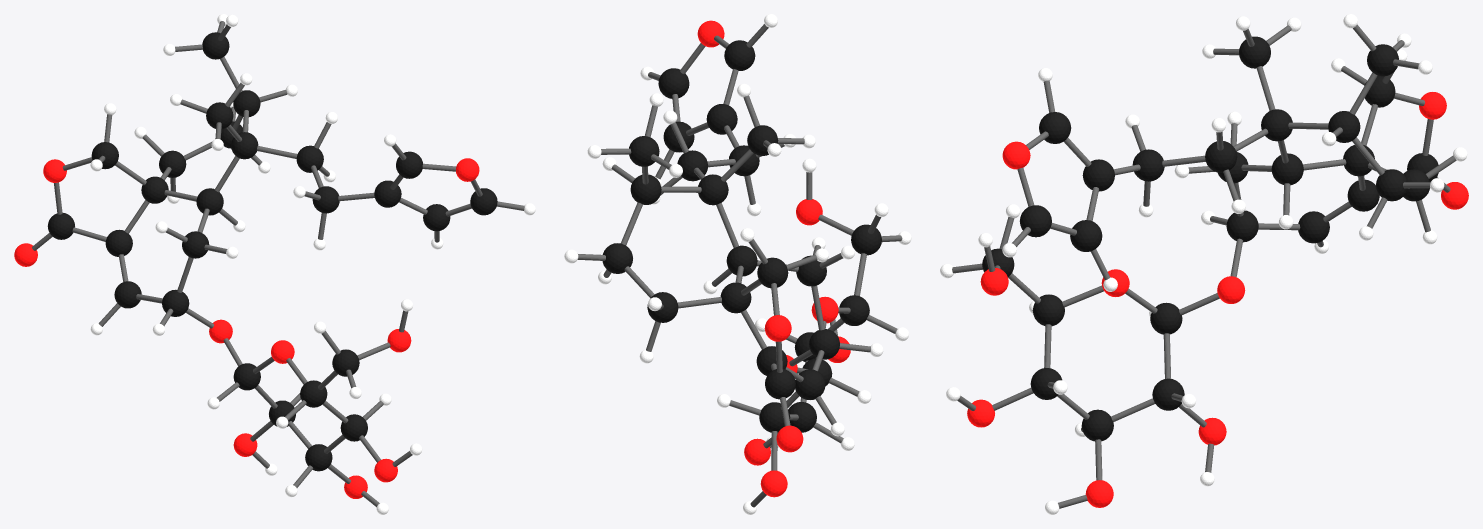
The model's file is molecule.glb.
3 views of the same model, side by side, from view 1: azimuth 30°, elevation 25°; view 2: azimuth 150°, elevation 25°; view 3: azimuth 270°, elevation 25° (orthographic). The views are drawn at different scales.
Visible parts, largest first — view 1: geometry_7, geometry_9, geometry_10; view 2: geometry_34, geometry_26, geometry_7, geometry_32, geometry_2, geometry_30, geometry_0, geometry_10, geometry_5, geometry_16, geometry_1, geometry_25 (+19 smaller); view 3: geometry_15, geometry_10, geometry_31, geometry_13, geometry_20, geometry_30, geometry_2, geometry_32, geometry_34, geometry_0, geometry_26, geometry_29 (+18 smaller).
Part boxes in pixels (x1,y1,x2,y2): geometry_7: [47, 213, 74, 239]; geometry_9: [105, 229, 132, 256]; geometry_10: [114, 281, 141, 308]; geometry_34: [724, 40, 755, 70]; geometry_26: [698, 174, 728, 205]; geometry_7: [765, 369, 795, 399]; geometry_32: [658, 68, 689, 98]; geometry_2: [602, 243, 632, 273]; geometry_30: [706, 104, 737, 134]; geometry_0: [629, 136, 659, 166]; geometry_10: [795, 369, 825, 399]; geometry_5: [757, 257, 788, 288]; geometry_16: [851, 224, 881, 255]; geometry_1: [630, 174, 661, 204]; geometry_25: [726, 245, 757, 276]; geometry_15: [1032, 294, 1064, 326]; geometry_10: [1298, 211, 1329, 243]; geometry_31: [1070, 220, 1102, 251]; geometry_13: [1150, 302, 1182, 334]; geometry_20: [1081, 409, 1113, 441]; geometry_30: [1082, 159, 1114, 191]; geometry_2: [1376, 169, 1407, 201]; geometry_32: [1019, 205, 1051, 237]; geometry_34: [1039, 112, 1071, 143]; geometry_0: [1367, 44, 1398, 76]; geometry_26: [1261, 109, 1292, 141]; geometry_29: [1132, 149, 1164, 181].
Bounding box in the file's own units: 0.2154 × 0.257 × 0.2535.
